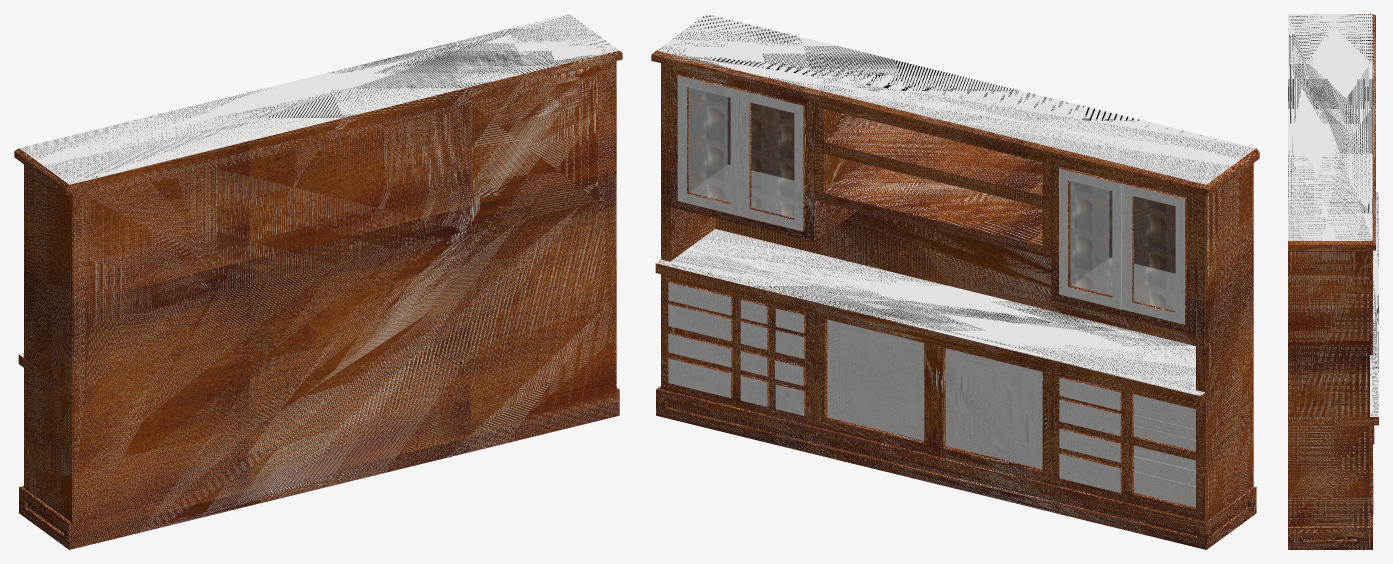
3 renders of one model, left to right at view 1: azimuth 30°, elevation 25°; view 2: azimuth 150°, elevation 25°; view 3: azimuth 270°, elevation 25°, orthographic. The views are drawn at different scales.
Parts seen in each view (by area): view 1: mesh1_mesh1-geometry; view 2: mesh1_mesh1-geometry; view 3: mesh1_mesh1-geometry.
Boxes of the visible parts, <box> form: mesh1_mesh1-geometry: <box>14,14,622,549</box>; mesh1_mesh1-geometry: <box>651,14,1259,549</box>; mesh1_mesh1-geometry: <box>1288,14,1378,549</box>.
Bounding box in the file's own units: 0.8389 × 0.5259 × 0.1401.
